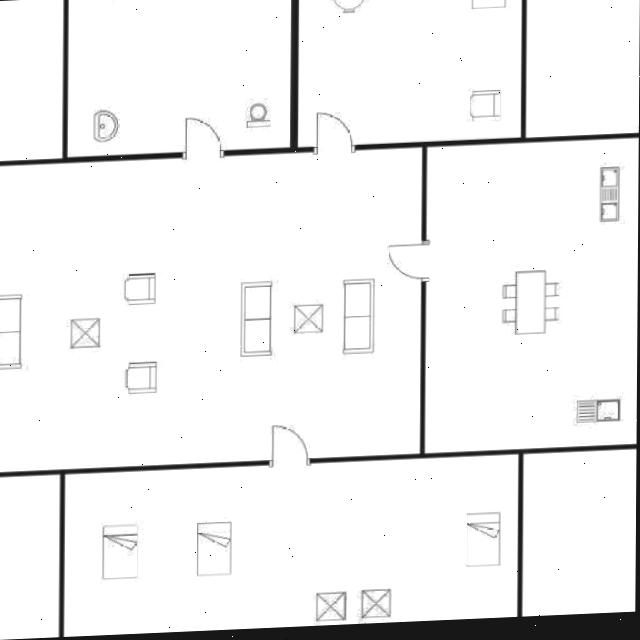room: (0, 146, 434, 471), (56, 453, 526, 637), (425, 135, 639, 454), (67, 0, 291, 155), (298, 0, 521, 146)
